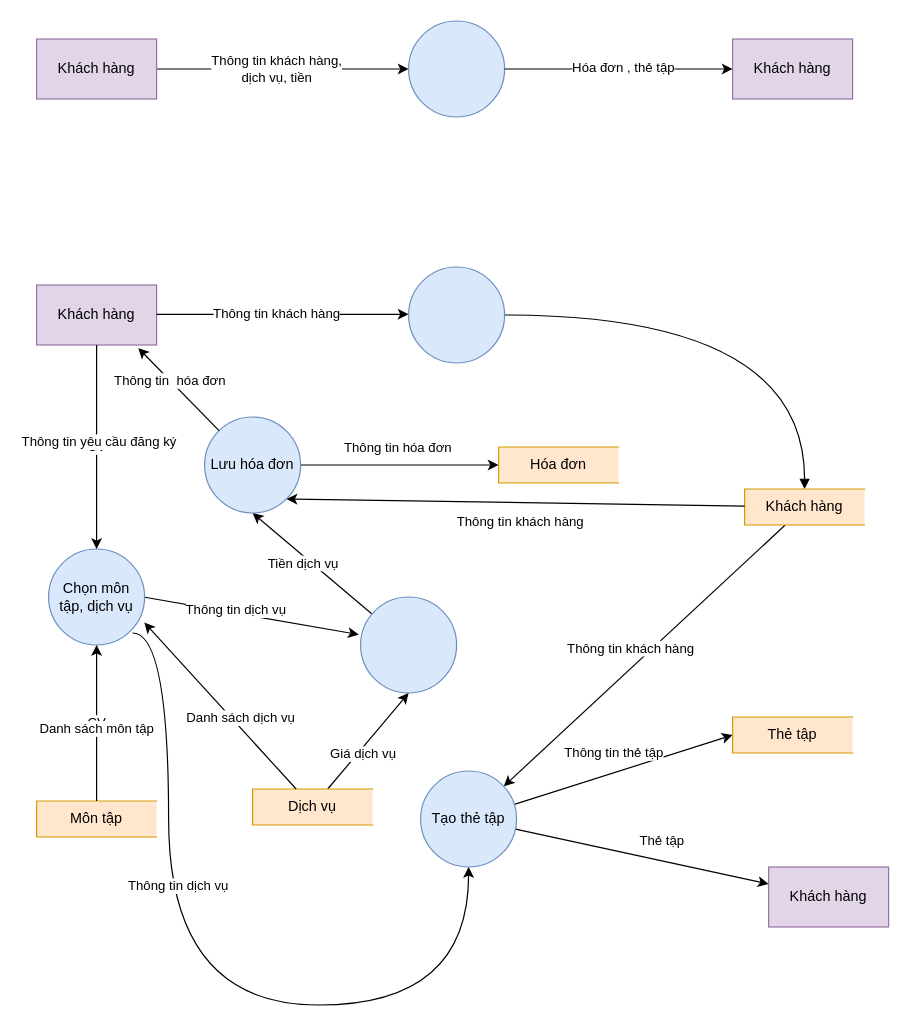
Image size: 910x1026. Some labels were removed from this diagram. Each missing label, with the centre of its shape:
"Hệ thống đăng kí dịch vụ tập" goes at (x=456, y=68).
"Tiếp nhận thông tin khách hàng" goes at (x=456, y=314).
"Tính tiền dịch vụ" goes at (x=408, y=644).
